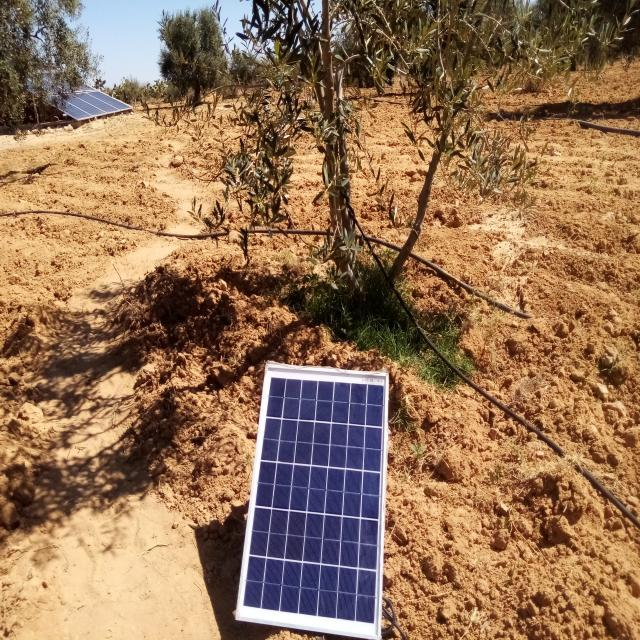no faulty: (237, 366, 388, 639)
